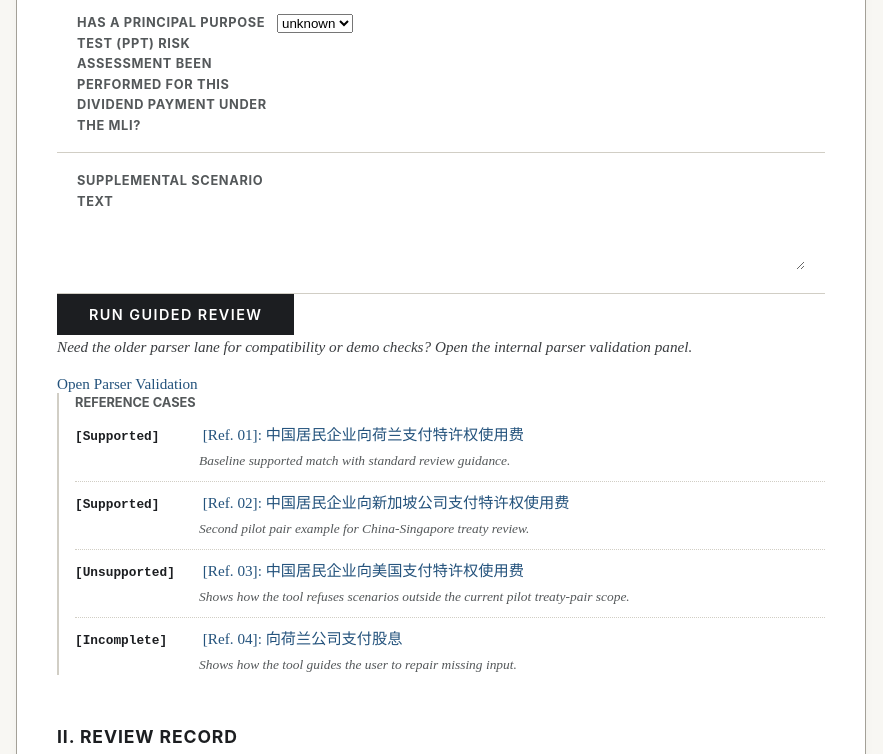
Test: shows multiple possible rates instead of a single anchored treaty rate when branch facts are missing
The width and height of the screenshot is (883, 754).
(page scrolled)
Click the button "Open Parser Validation".
click(127, 384)  # box [57,375,198,393]
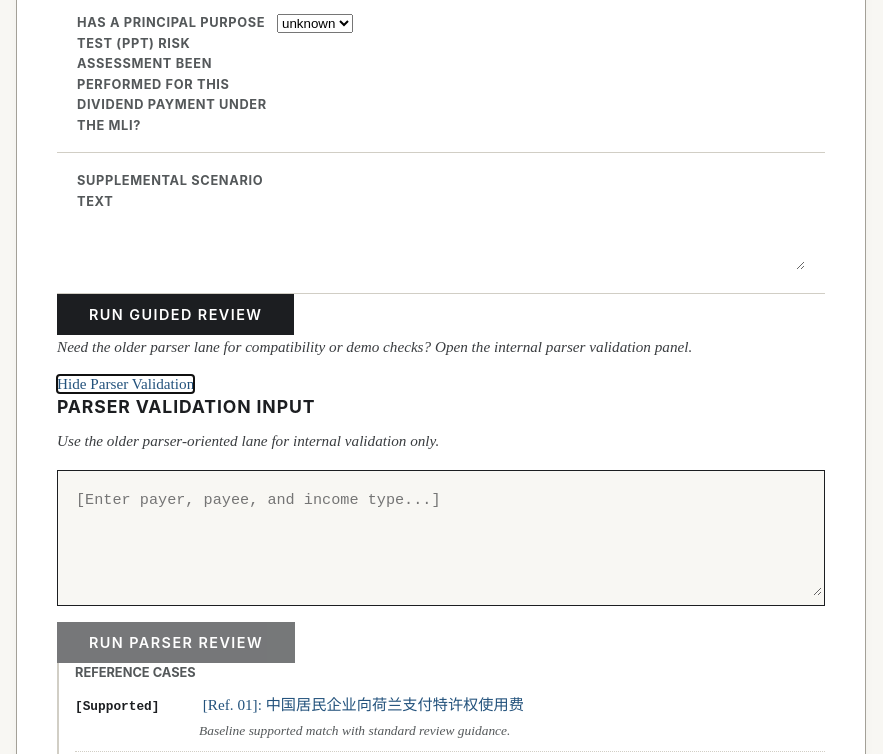
Type "中国公司向荷兰公司支付股息" into the text box named "cross-border scenario".
click(441, 534); type("中国公司向荷兰公司支付股息")  # box [60,473,822,596]
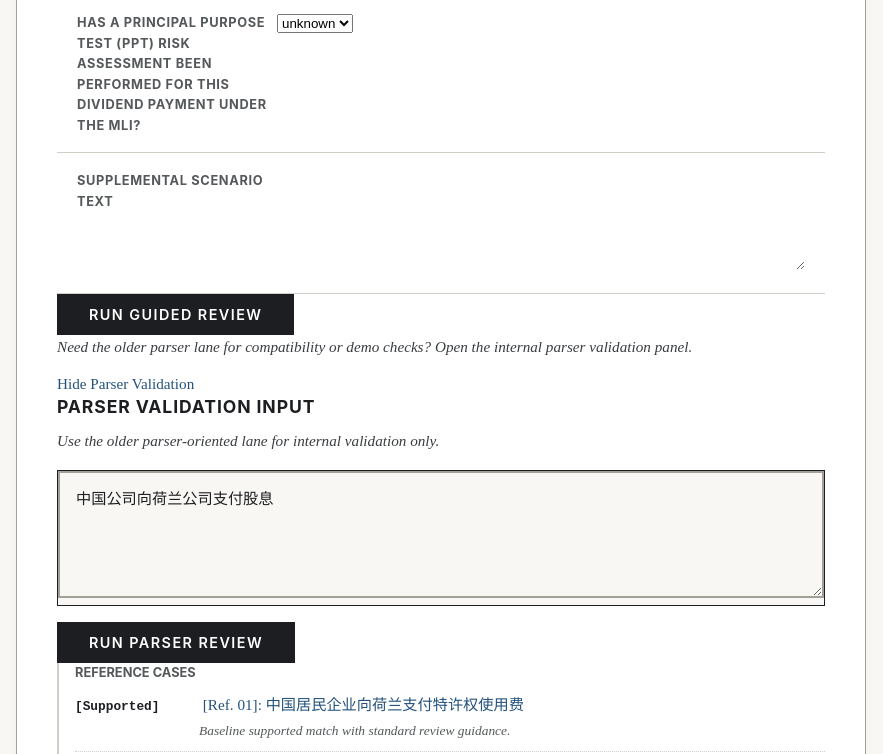
Click the button "Run Parser Review".
click(176, 643)  # box [57,622,295,663]
(page scrolled)
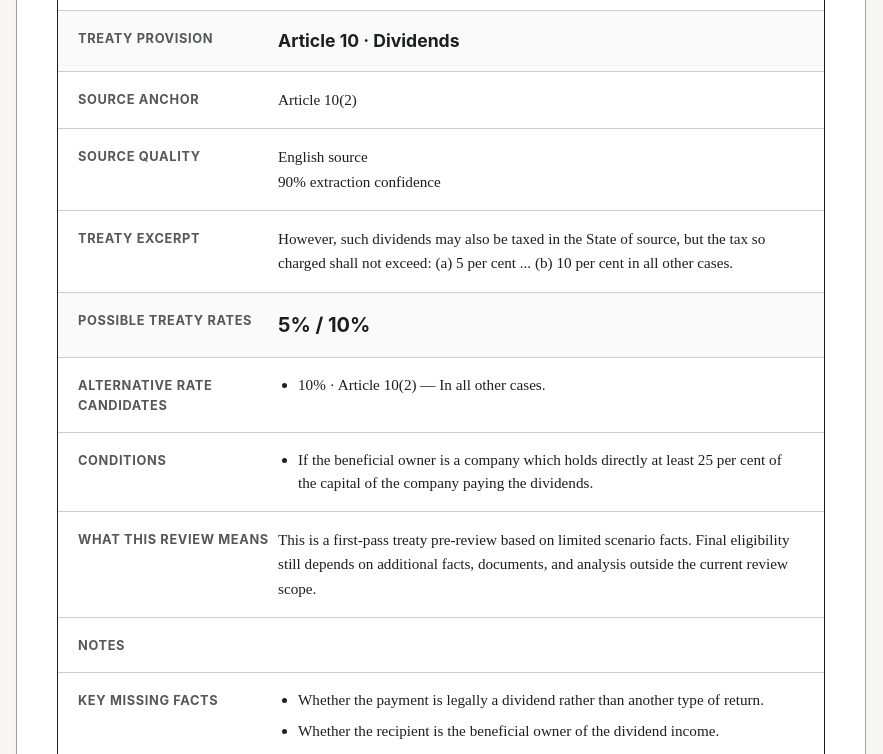
Expected: the text "Possible Treaty Rates" is shown, [78,312,252,328]
Expected: the text "5% / 10%" is shown, [278,312,370,336]
Expected: the text "Alternative Rate Candidates" is shown, [78,378,212,413]
